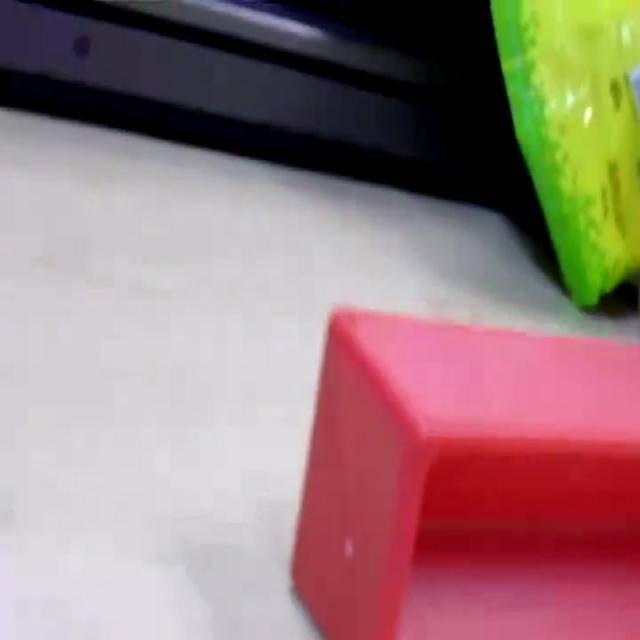red_block: (289, 301, 638, 636)
